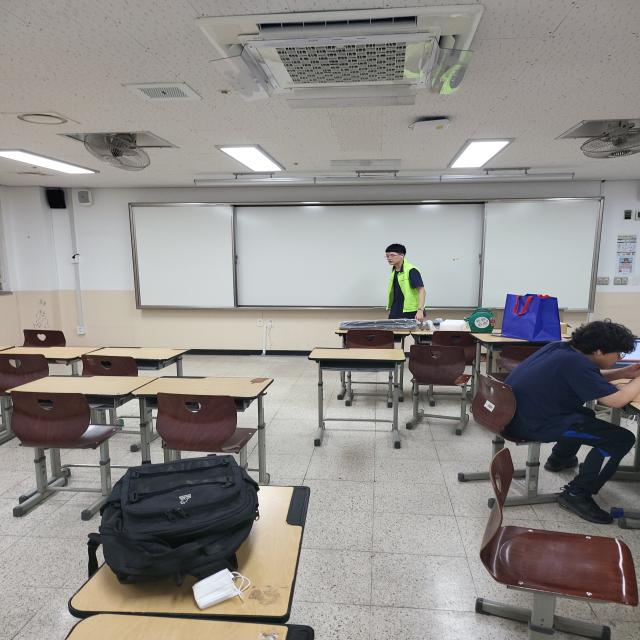weston_spy: (382, 257, 429, 322)
